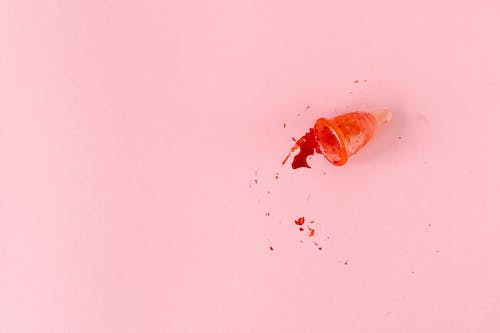blood: (248, 79, 441, 276), (313, 105, 393, 167)
